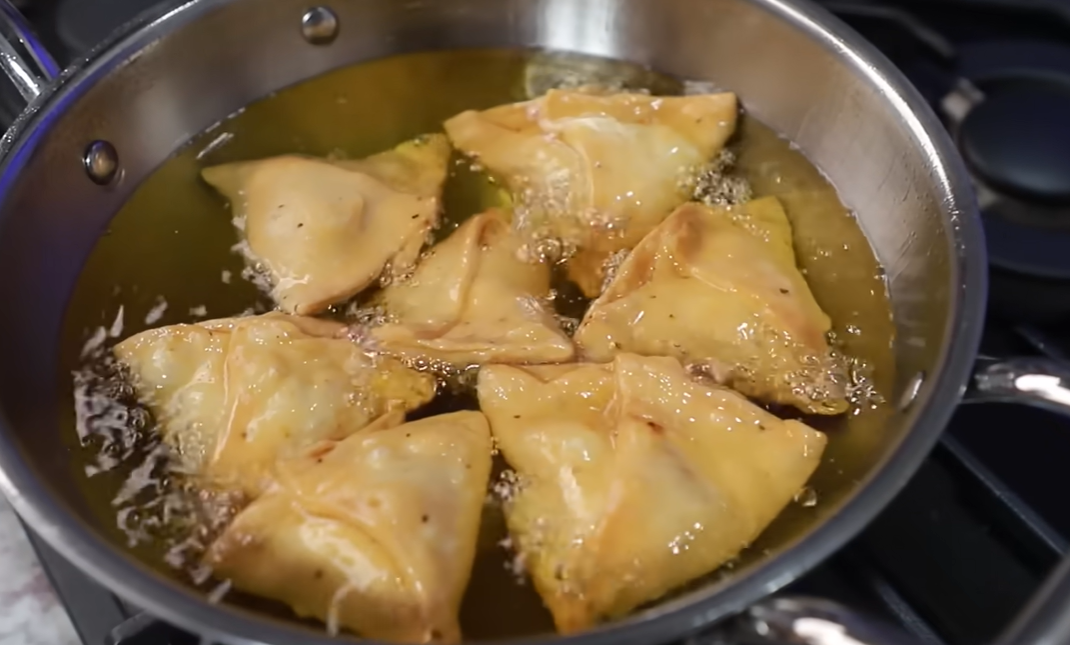samosa: (483, 356, 827, 634), (579, 194, 859, 423), (227, 406, 490, 639), (451, 86, 747, 293), (113, 330, 436, 486), (206, 117, 447, 323)
